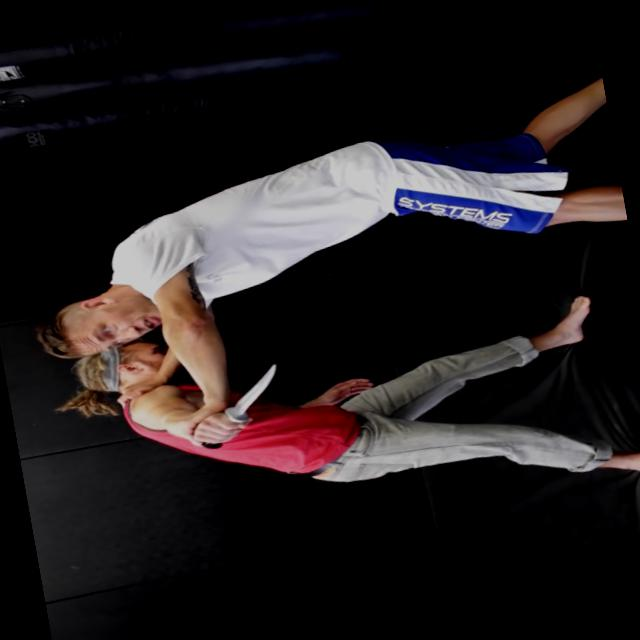knife: (180, 354, 304, 454)
